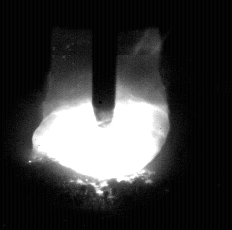arame: (92, 0, 117, 122)
poca: (41, 0, 170, 230)
